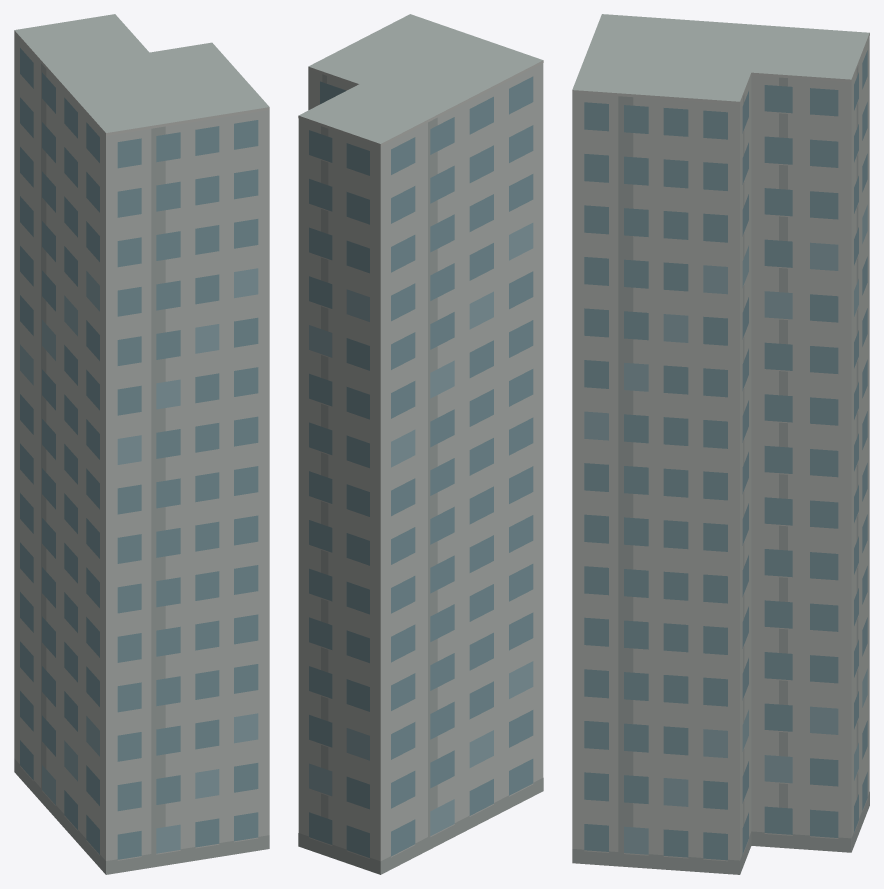
Rendered from residential-f1c566e5-6837-4a5b-ab26-20356a89a268.glb.
3 views of the same model, side by side, from view 1: azimuth 30°, elevation 25°; view 2: azimuth 150°, elevation 25°; view 3: azimuth 270°, elevation 25° (orthographic). The views are drawn at different scales.
Parts seen in each view (by area): view 1: residential-f1c566e5-6837-4a5b-ab26-20356a89a268.tmp; view 2: residential-f1c566e5-6837-4a5b-ab26-20356a89a268.tmp; view 3: residential-f1c566e5-6837-4a5b-ab26-20356a89a268.tmp.
Boxes of the visible parts, x1,y1,x2,y2 form: residential-f1c566e5-6837-4a5b-ab26-20356a89a268.tmp: (14,14,269,874); residential-f1c566e5-6837-4a5b-ab26-20356a89a268.tmp: (298,14,543,874); residential-f1c566e5-6837-4a5b-ab26-20356a89a268.tmp: (572,14,869,874).
Bounding box in the file's own units: 15.59 × 64 × 22.33.
